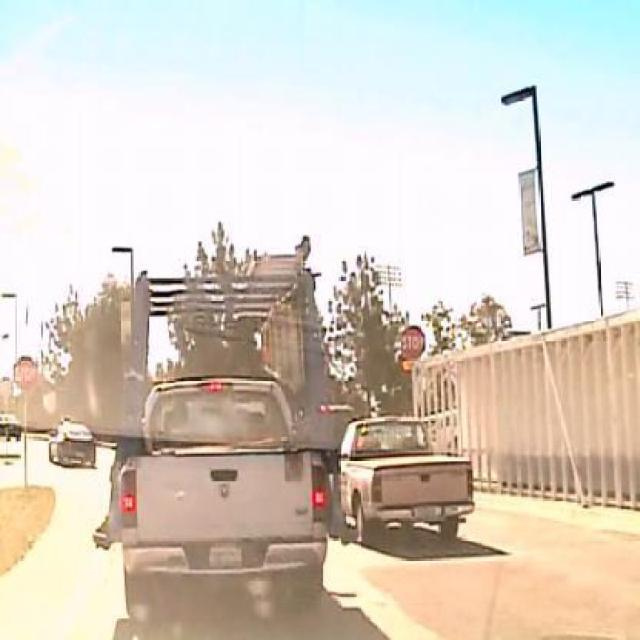stop: (400, 325, 426, 360)
